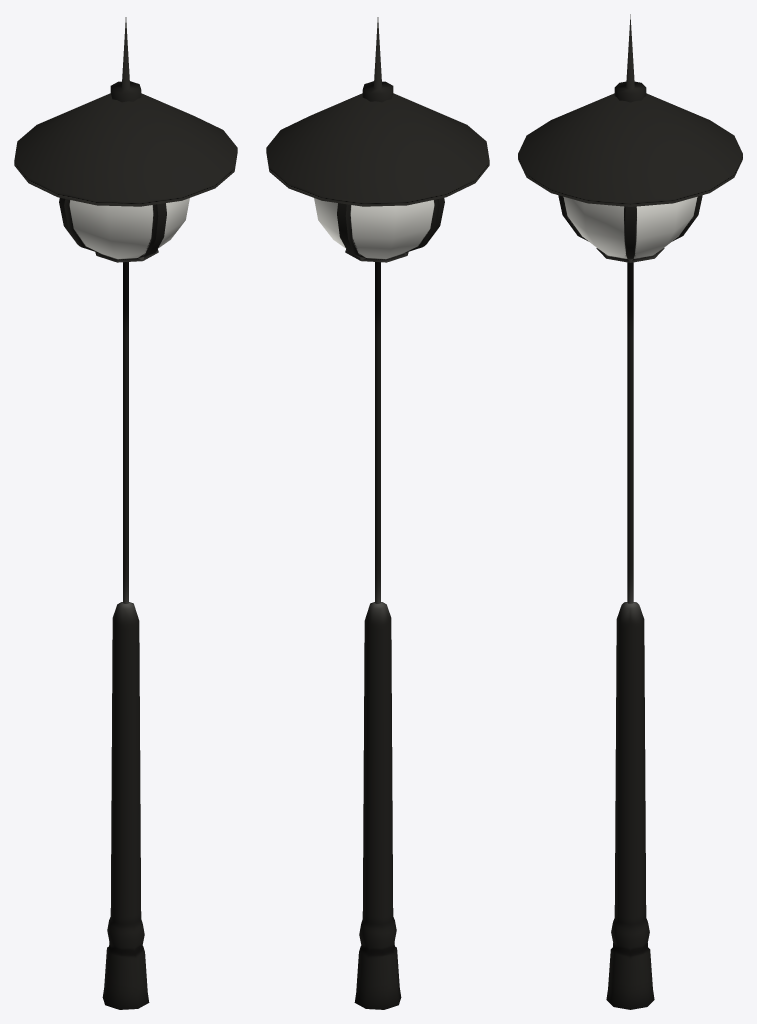
The model's file is torch02.fbx.
3 renders of one model, left to right at view 1: azimuth 30°, elevation 25°; view 2: azimuth 150°, elevation 25°; view 3: azimuth 270°, elevation 25°, orthographic.
Visible parts, largest first — view 1: torch; view 2: torch; view 3: torch.
Boxes of the visible parts, x1,y1,x2,y2 form: torch: (14, 17, 237, 1009); torch: (266, 17, 489, 1009); torch: (518, 14, 742, 1009).
Bounding box in the file's own units: 14.33 × 69.29 × 14.33.
2 materials, 2 textured.
